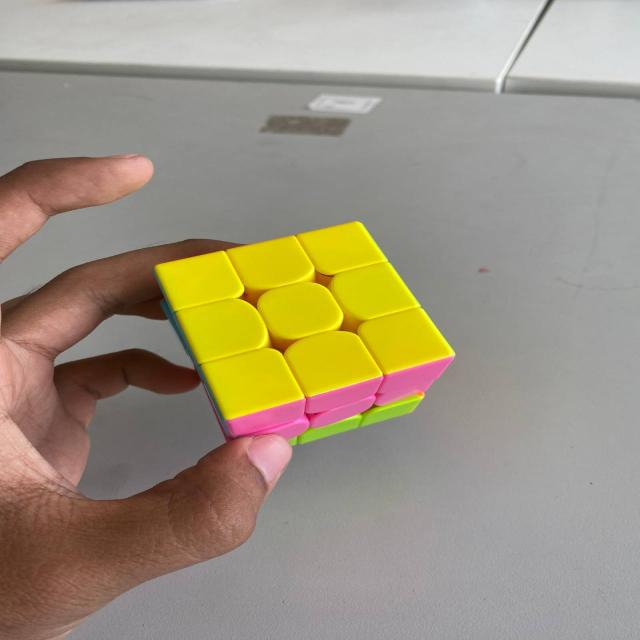Cube-3x3: (121, 224, 476, 434)
